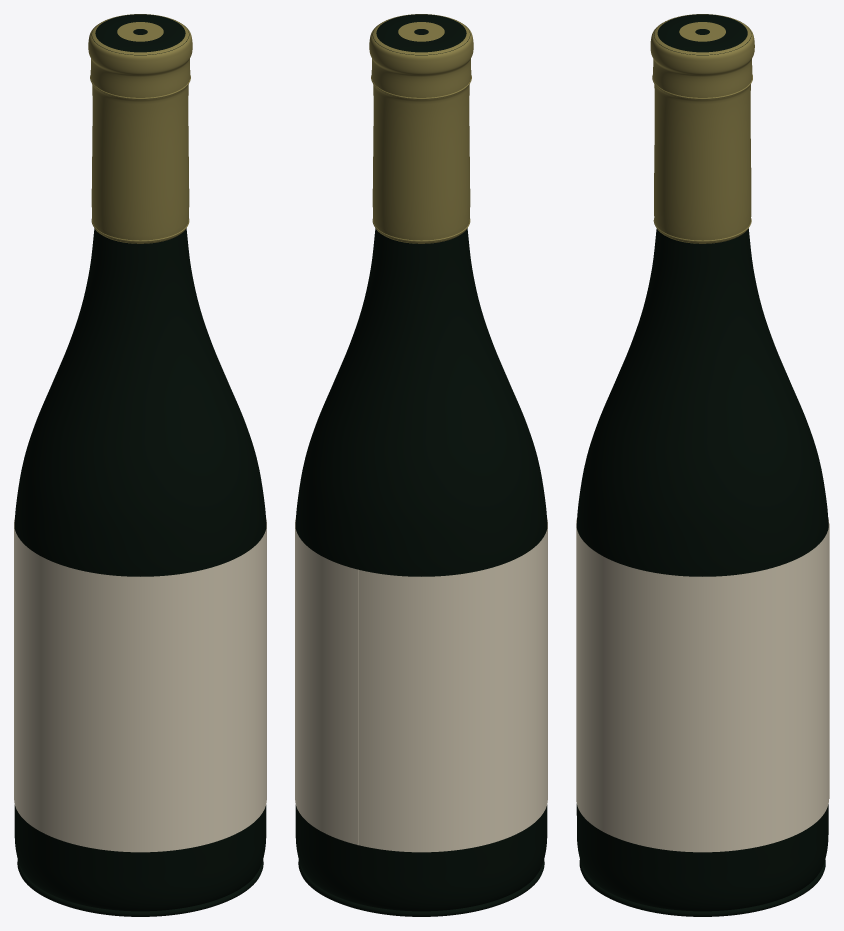
Rendered from nocturne-magnum.glb.
3 renders of one model, left to right at view 1: azimuth 30°, elevation 25°; view 2: azimuth 150°, elevation 25°; view 3: azimuth 270°, elevation 25°, orthographic.
Parts seen in each view (by area): view 1: Dark green glass, Warm uncoated paper, full wrap, Rolled metallic capsule with curved lip, Nocturne Cabernet bottle; view 2: Dark green glass, Warm uncoated paper, full wrap, Rolled metallic capsule with curved lip, Nocturne Cabernet bottle; view 3: Dark green glass, Warm uncoated paper, full wrap, Rolled metallic capsule with curved lip, Nocturne Cabernet bottle.
Part boxes in pixels (box(x1,y1,x2,y2)): Dark green glass: box(14, 14, 266, 911); Warm uncoated paper, full wrap: box(14, 518, 266, 852); Rolled metallic capsule with curved lip: box(88, 14, 192, 243); Nocturne Cabernet bottle: box(17, 75, 263, 916); Dark green glass: box(295, 14, 547, 911); Warm uncoated paper, full wrap: box(295, 518, 547, 852); Rolled metallic capsule with curved lip: box(369, 14, 473, 243); Nocturne Cabernet bottle: box(298, 75, 544, 916); Dark green glass: box(576, 14, 828, 911); Warm uncoated paper, full wrap: box(576, 518, 828, 852); Rolled metallic capsule with curved lip: box(650, 14, 754, 243); Nocturne Cabernet bottle: box(579, 74, 829, 916).
Bounding box in the file's own units: 1.07 × 3.89 × 1.07.
